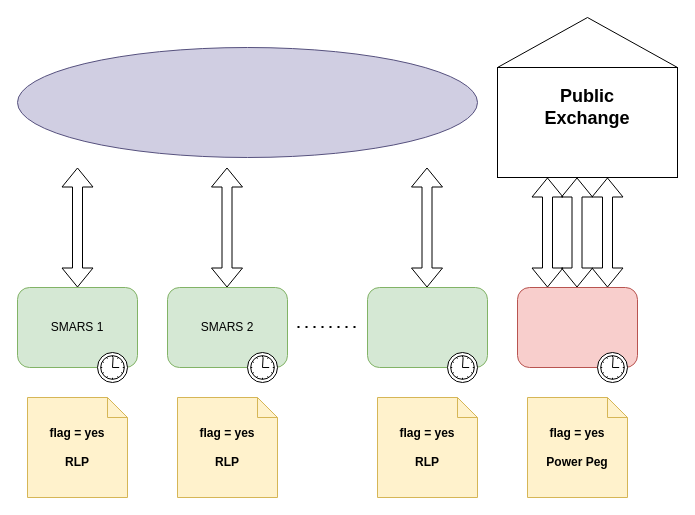
Image size: 695x515. Some labels were removed from this diagram. The shapes that lost their labels are listed below. From the top down, each one's centre as x and y in pixels, then its label:
At (247,102): "Retail Liquidity Program".
At (427,327): "SMARS 7".
At (577,327): "SMARS 8".
